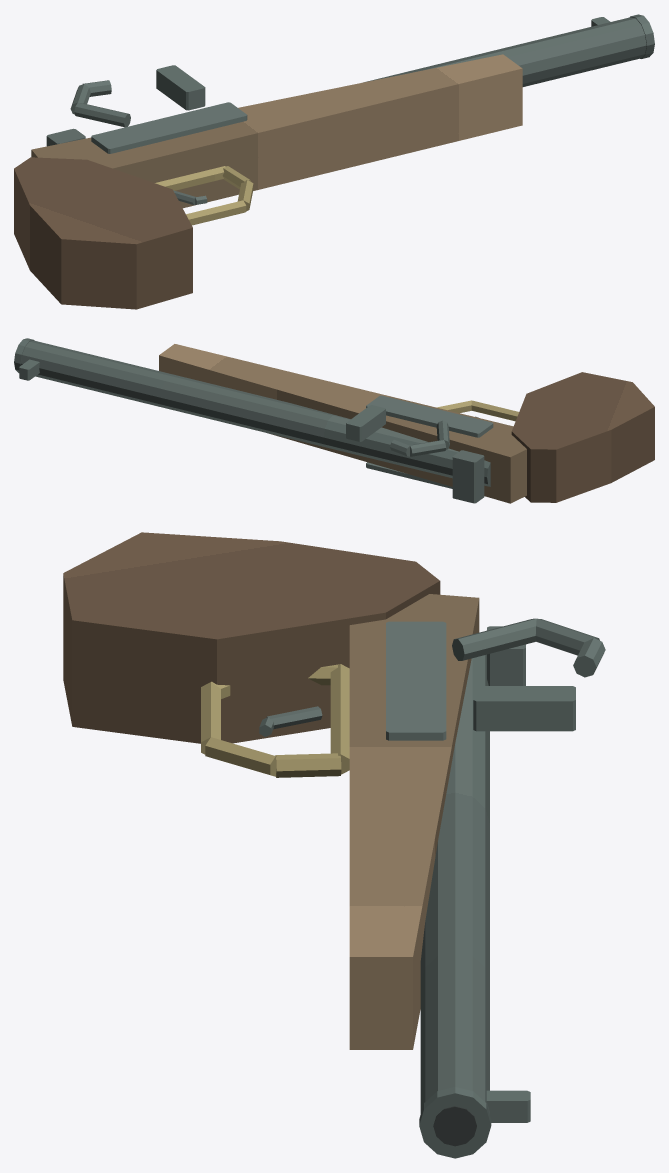
Rendered from weapon-flintlock.glb.
3 renders of one model, top to bottom at view 1: azimuth 30°, elevation 25°; view 2: azimuth 150°, elevation 25°; view 3: azimuth 270°, elevation 25°, orthographic. The views are drawn at different scales.
Parts seen in each view (by area): view 1: weapon-flintlock/long-slender-wood-stock, weapon-flintlock/sculpted-curved-wood-butt, weapon-flintlock/long-early-barrel, weapon-flintlock/lock-plate-left, weapon-flintlock/lock-upright, weapon-flintlock/external-flint-cock-1, weapon-flintlock/hollow-brass-guard-1, weapon-flintlock/hollow-brass-guard-4, weapon-flintlock/rear-sight; view 2: weapon-flintlock/long-early-barrel, weapon-flintlock/sculpted-curved-wood-butt, weapon-flintlock/long-slender-wood-stock, weapon-flintlock/lock-plate-left, weapon-flintlock/rear-sight, weapon-flintlock/lock-upright, weapon-flintlock/hollow-brass-guard-4, weapon-flintlock/external-flint-cock-2, weapon-flintlock/lock-plate-right, weapon-flintlock/front-sight, weapon-flintlock/external-flint-cock-1, weapon-flintlock/hollow-brass-guard-3 (+1 smaller); view 3: weapon-flintlock/sculpted-curved-wood-butt, weapon-flintlock/long-slender-wood-stock, weapon-flintlock/long-early-barrel, weapon-flintlock/lock-plate-left, weapon-flintlock/lock-upright, weapon-flintlock/long-early-barrel-end-rim, weapon-flintlock/external-flint-cock-1, weapon-flintlock/hollow-brass-guard-1, weapon-flintlock/hollow-brass-guard-2, weapon-flintlock/hollow-brass-guard-3, weapon-flintlock/rear-sight, weapon-flintlock/front-sight (+3 smaller).
Part boxes in pixels (x1,y1,x2,y2): weapon-flintlock/long-slender-wood-stock: (31,54,522,208); weapon-flintlock/sculpted-curved-wood-butt: (14,157,192,309); weapon-flintlock/long-early-barrel: (363,17,646,86); weapon-flintlock/lock-plate-left: (91,102,247,153); weapon-flintlock/lock-upright: (156,65,205,110); weapon-flintlock/external-flint-cock-1: (74,102,130,127); weapon-flintlock/hollow-brass-guard-1: (155,166,225,190); weapon-flintlock/hollow-brass-guard-4: (186,200,246,225); weapon-flintlock/rear-sight: (46,128,85,146); weapon-flintlock/long-early-barrel: (21,340,490,486); weapon-flintlock/sculpted-curved-wood-butt: (511,372,654,502); weapon-flintlock/long-slender-wood-stock: (159,344,526,503); weapon-flintlock/lock-plate-left: (366,395,493,437); weapon-flintlock/rear-sight: (452,450,484,503); weapon-flintlock/lock-upright: (346,405,385,441); weapon-flintlock/hollow-brass-guard-4: (471,400,518,421); weapon-flintlock/external-flint-cock-2: (410,440,445,456); weapon-flintlock/lock-plate-right: (366,462,452,488); weapon-flintlock/front-sight: (19,359,39,380); weapon-flintlock/external-flint-cock-1: (436,420,449,449); weapon-flintlock/hollow-brass-guard-3: (436,400,471,413); weapon-flintlock/sculpted-curved-wood-butt: (63,532,440,743); weapon-flintlock/long-slender-wood-stock: (349,594,479,1049); weapon-flintlock/long-early-barrel: (420,654,489,1114); weapon-flintlock/lock-plate-left: (386,621,446,740); weapon-flintlock/lock-upright: (473,686,575,731); weapon-flintlock/long-early-barrel-end-rim: (419,1087,491,1158); weapon-flintlock/external-flint-cock-1: (452,618,536,660); weapon-flintlock/hollow-brass-guard-1: (330,664,349,774); weapon-flintlock/hollow-brass-guard-2: (275,753,341,777); weapon-flintlock/hollow-brass-guard-3: (205,737,276,776); weapon-flintlock/rear-sight: (487,626,525,685); weapon-flintlock/front-sight: (486,1090,530,1122).
Size of the model in its own units: 0.4245 by 0.052 by 0.1799.
Materials: 5 (5 with a texture image).
